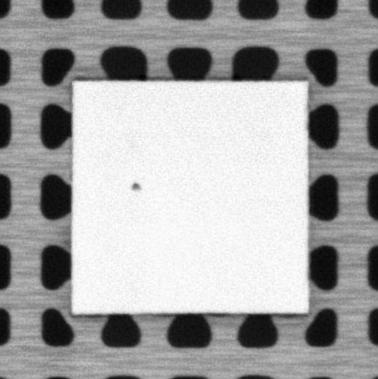DIE_INK: (130, 182, 141, 190)
